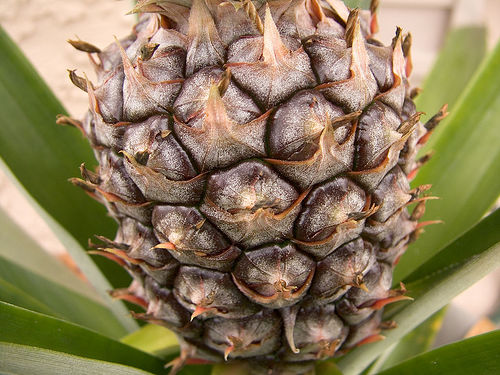pineapple: (56, 0, 453, 368)
